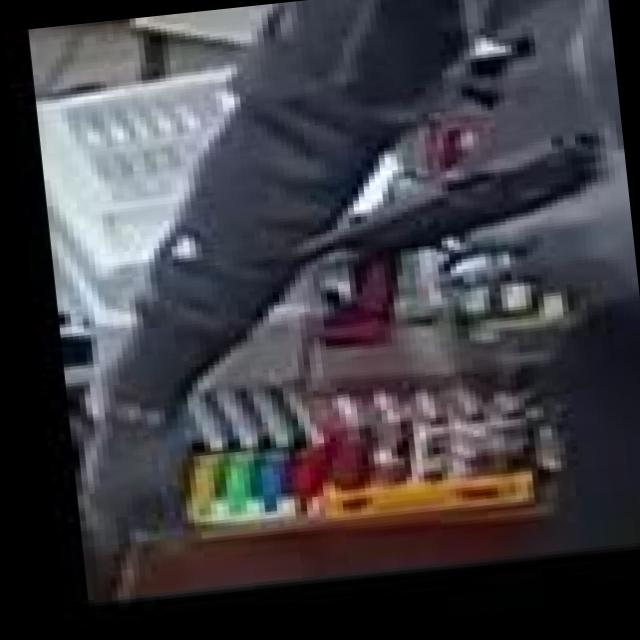Guns: (243, 93, 640, 388)
